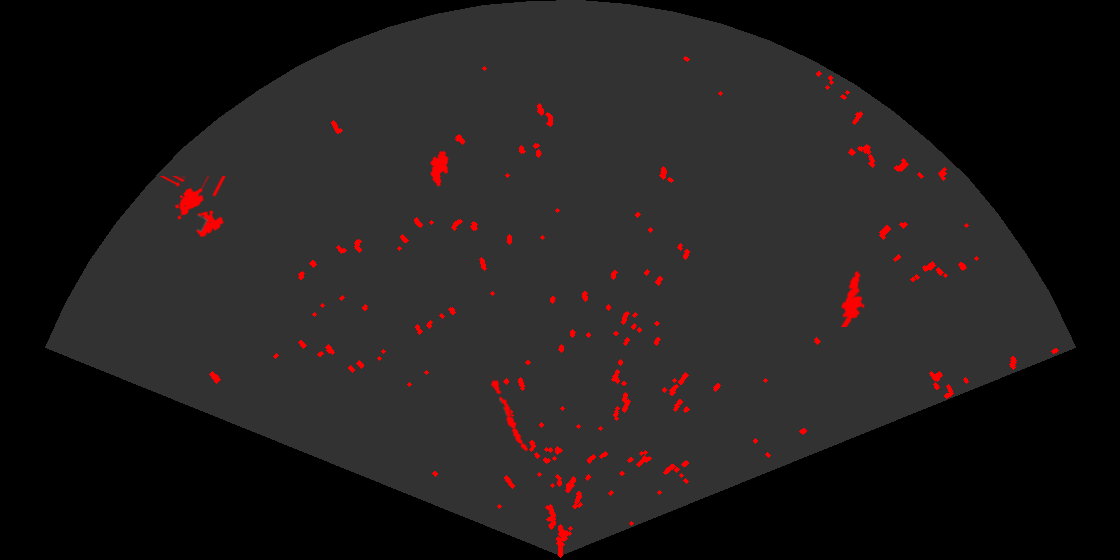AUV: (428, 149, 450, 187)
cage: (158, 176, 227, 239)
chain: (489, 375, 530, 453)
frogman: (839, 268, 866, 327)
